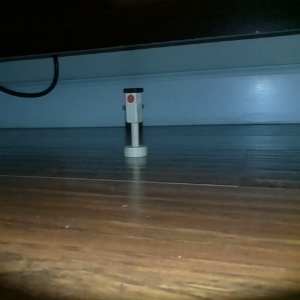traffic light red: (119, 84, 149, 159)
